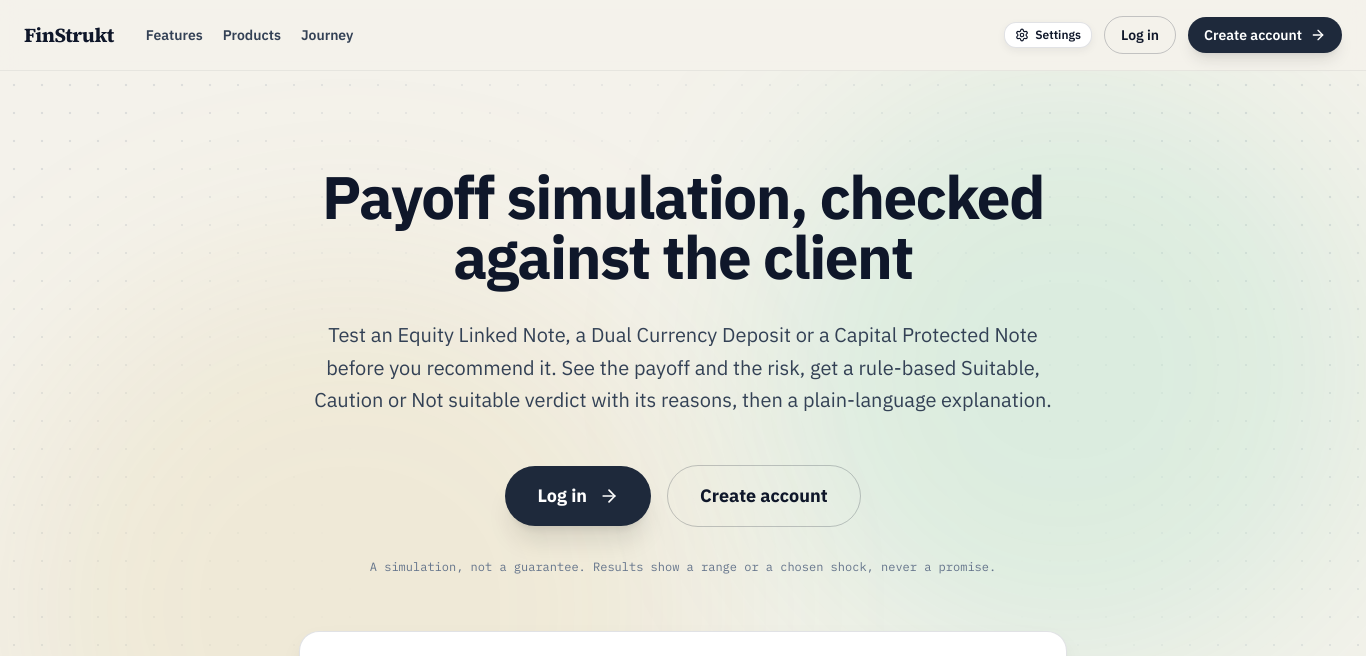
Test: registering › opens straight on the registration form from the home page
The width and height of the screenshot is (1366, 656).
Click the button "Create account" in the row of "Products". click: x=1265, y=35
box: [1188, 17, 1342, 53]
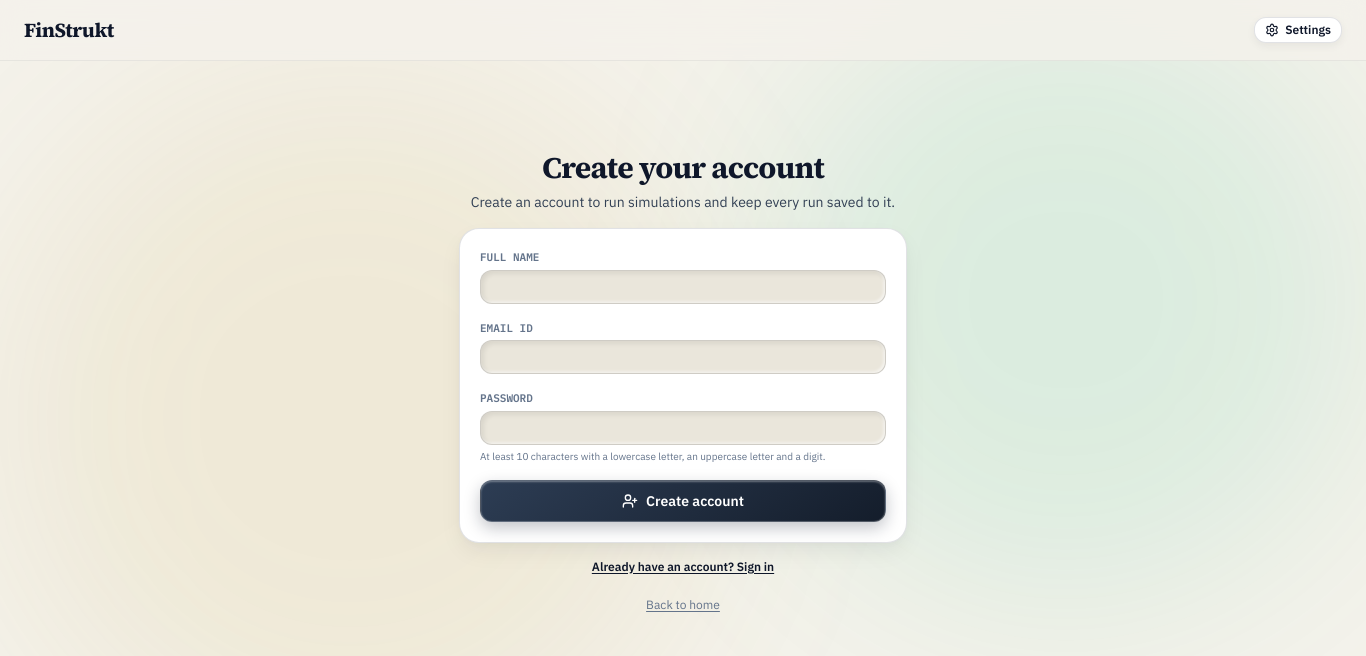
Now the heading "Create your account" is shown, box [542, 147, 824, 188]
Now the field labelled "Full name" is shown, box [480, 270, 886, 304]
Now the field labelled "Email id" is shown, box [480, 340, 886, 374]
Click the button "Back to home". click: x=683, y=605
box: [646, 597, 720, 613]
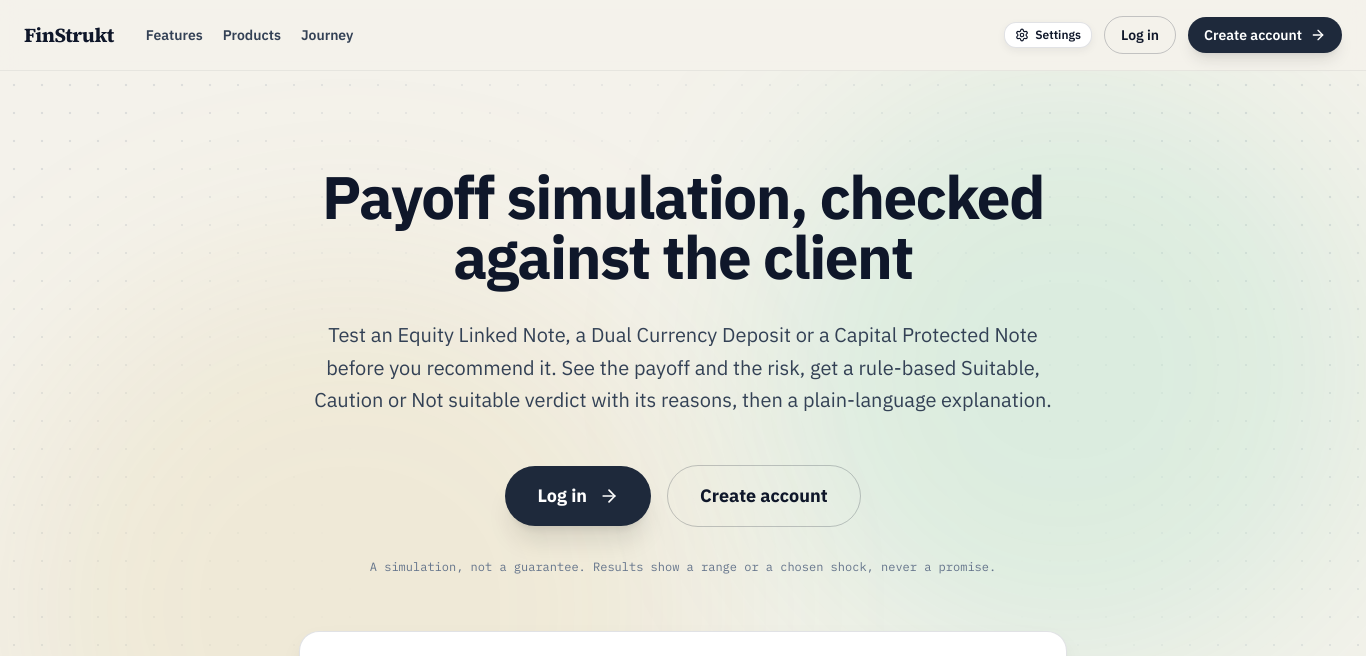
Now the button "Log in" in the row of "Products" is shown, box [1104, 16, 1176, 54]
